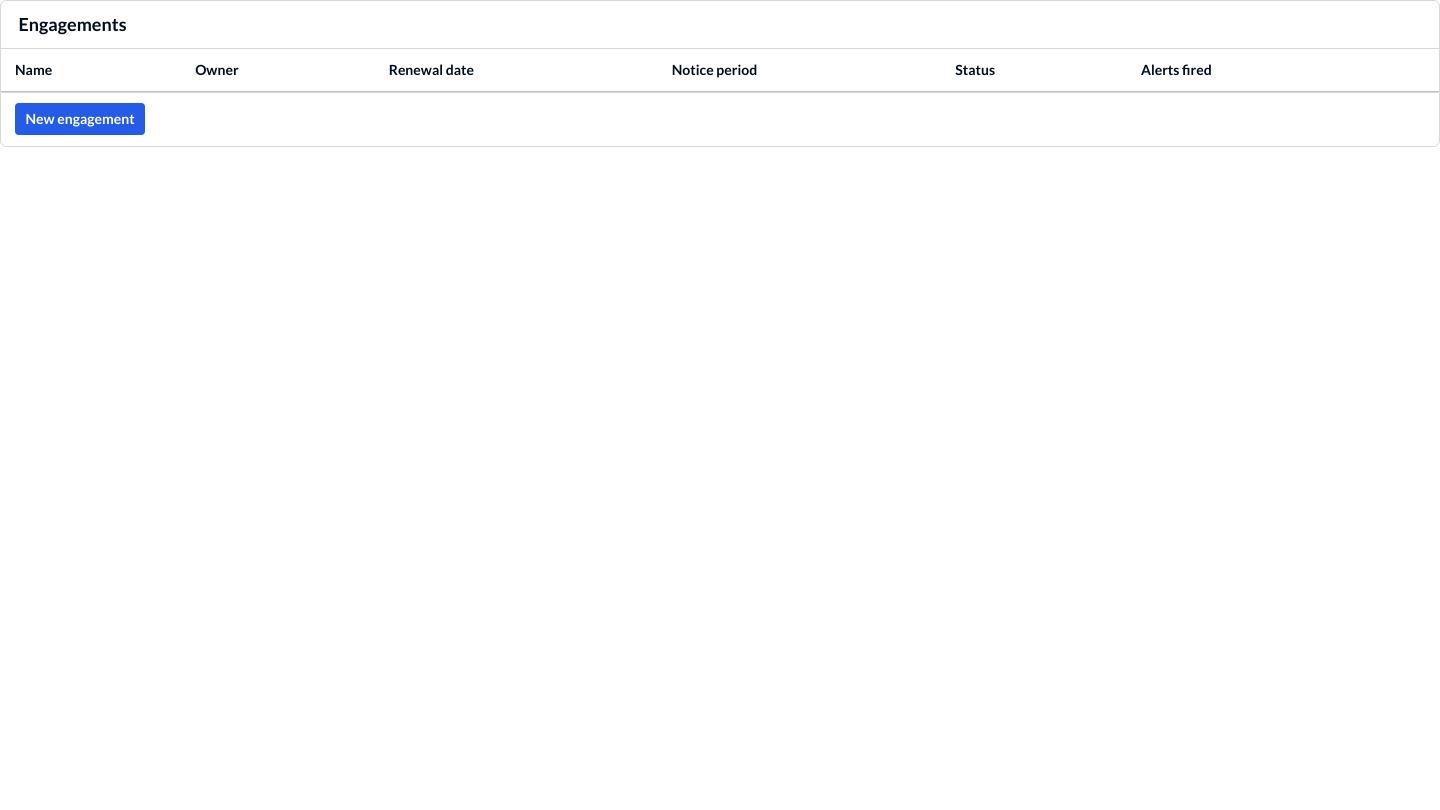
it: EngagementsPanel › refuses a notice period with no renewal date before it asks the API
Click the button "New engagement" at (80, 119), box [15,103,145,135]
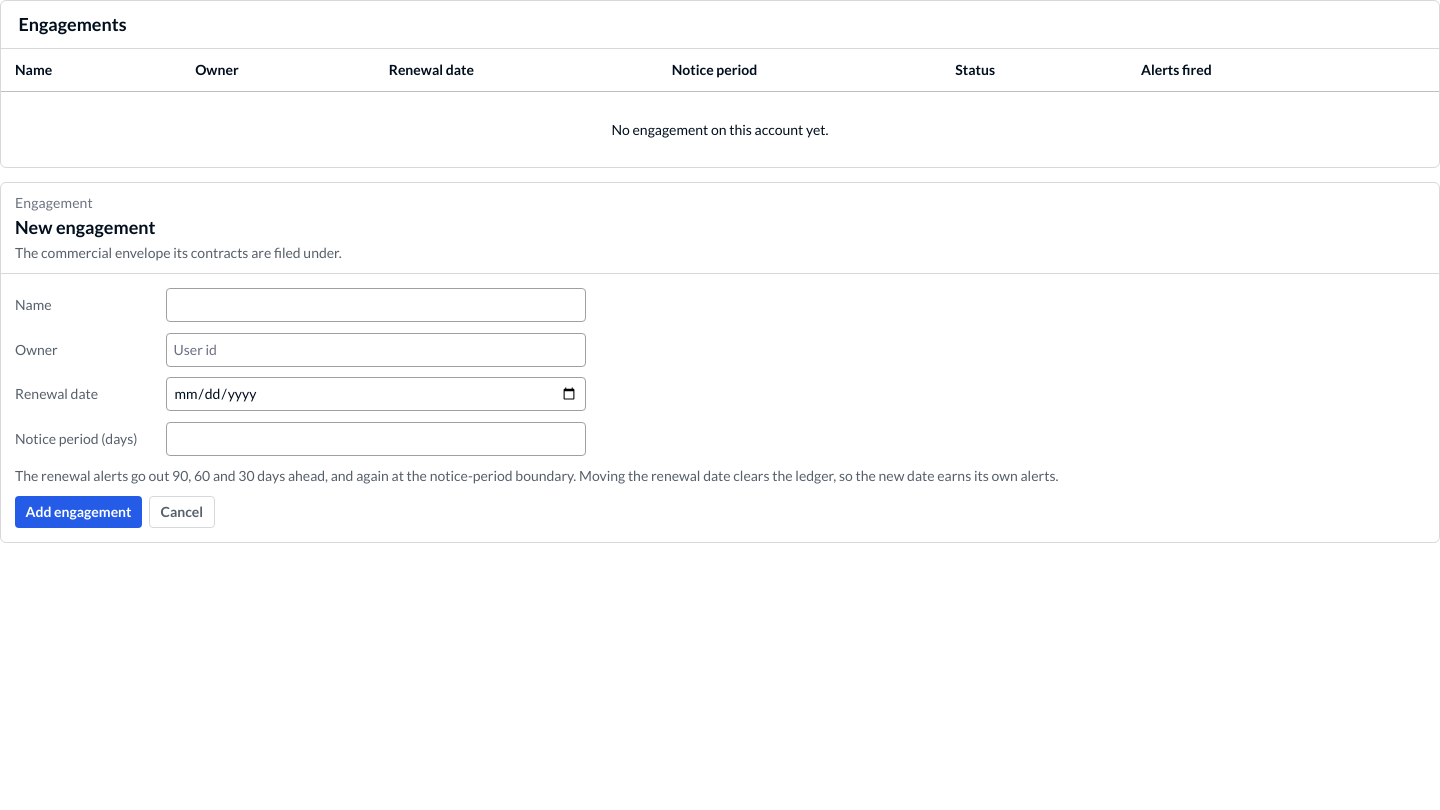
Type "Renewal 2027" into the field labelled "Name" at (376, 305), box [166,288,586,322]
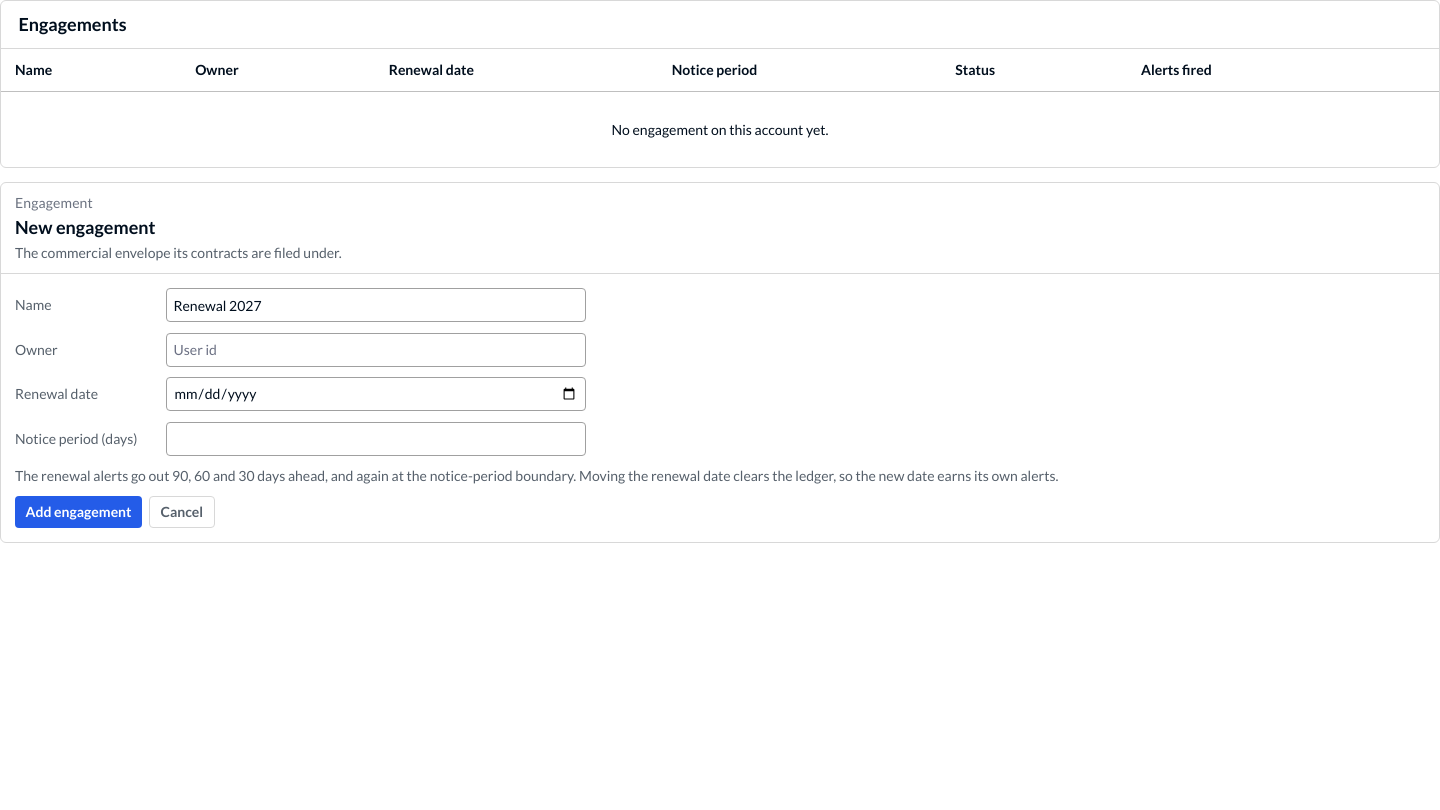
Type "30" into the field labelled "Notice period (days)" at (376, 439), box [166,422,586,456]
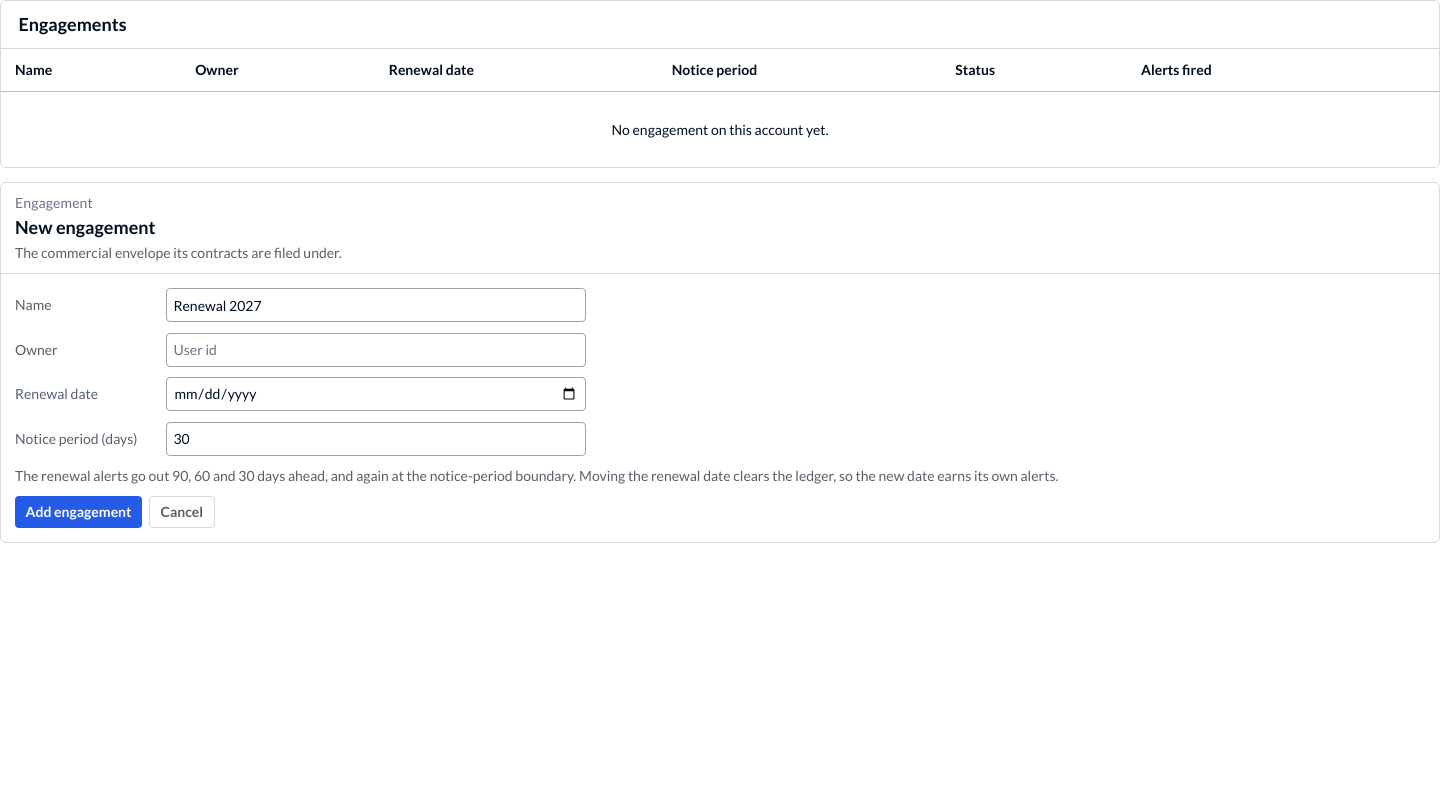
Click the button "Add engagement" at (78, 512), box [15,496,142,528]
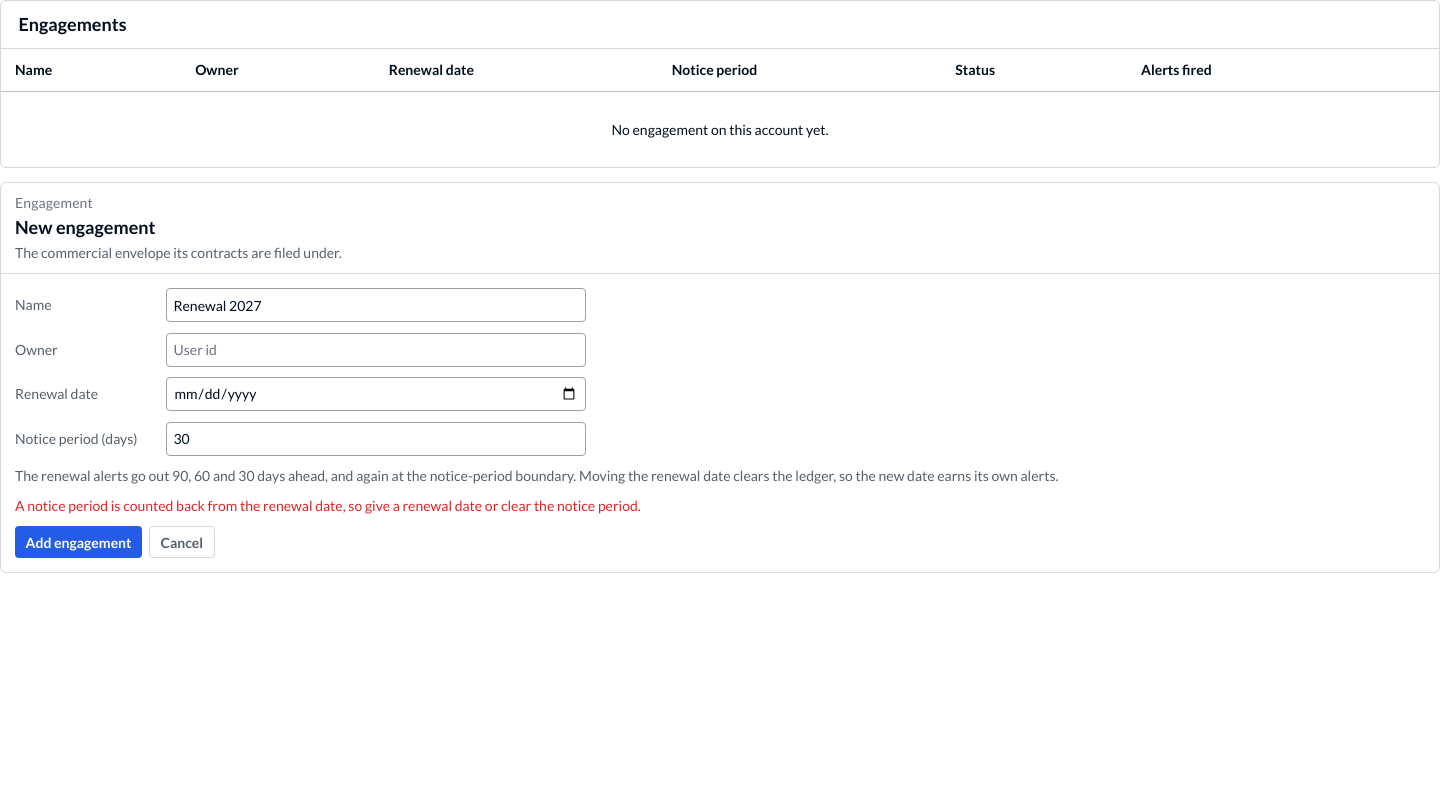
Expected: the text "counted back from the renewal date" is shown, [15,497,641,514]
